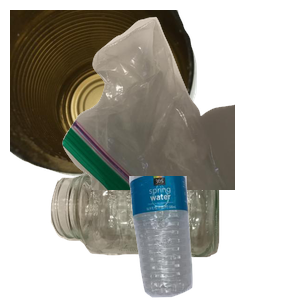glass: (48, 156, 260, 300)
metal: (10, 10, 200, 180)
plastic: (127, 176, 300, 300)
trash: (60, 14, 300, 194)
